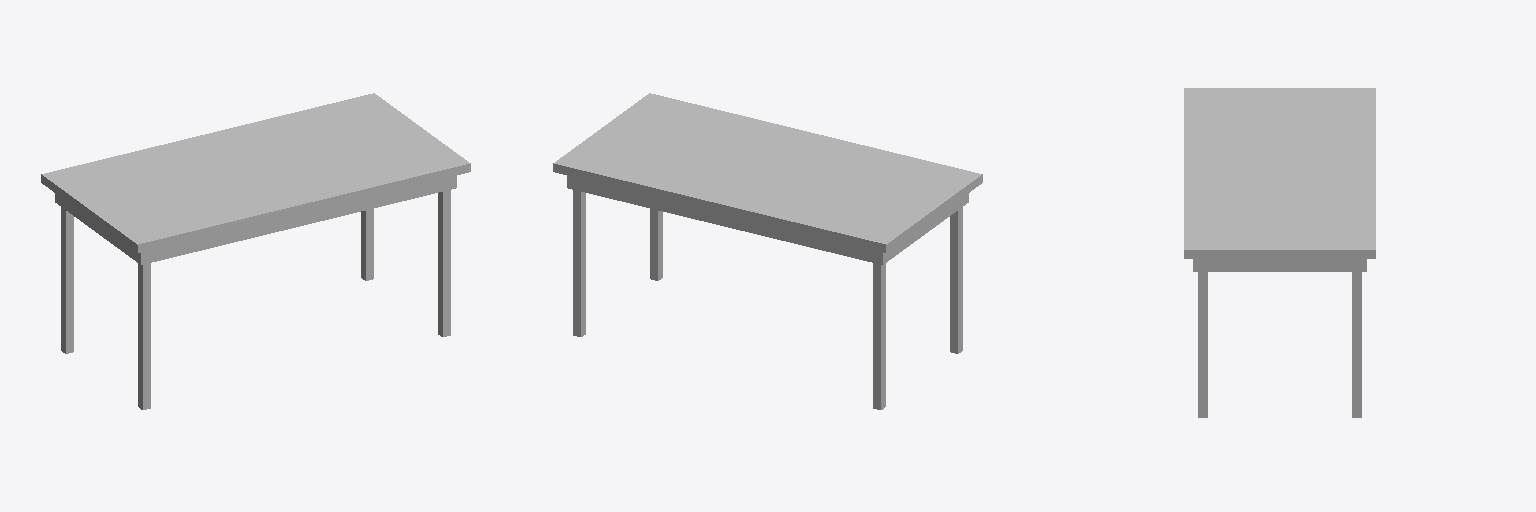
File: square_table.obj
3 renders of one model, left to right at view 1: azimuth 30°, elevation 25°; view 2: azimuth 150°, elevation 25°; view 3: azimuth 270°, elevation 25°, orthographic.
Parts seen in each view (by area): view 1: Group_001, Group_002; view 2: Group_001, Group_002; view 3: Group_001, Group_002.
Boxes of the visible parts, box(x1,y1,x2,y2) form: Group_001: box(41, 93, 470, 264); Group_002: box(61, 190, 450, 409); Group_001: box(553, 93, 982, 264); Group_002: box(573, 190, 962, 409); Group_001: box(1184, 88, 1375, 271); Group_002: box(1198, 272, 1361, 417).
Bounding box in the file's own units: 62.99 × 31.5 × 31.5.